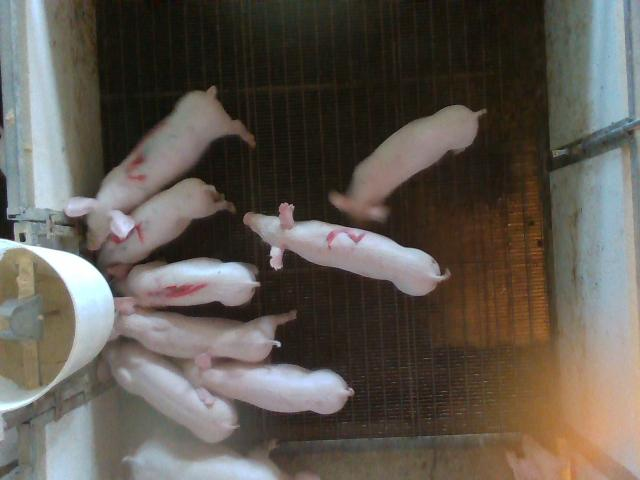pig-1: (106, 258, 260, 308)
pig-2: (244, 202, 450, 296)
pig-3: (65, 86, 255, 249)
pig-5: (98, 179, 235, 269)
